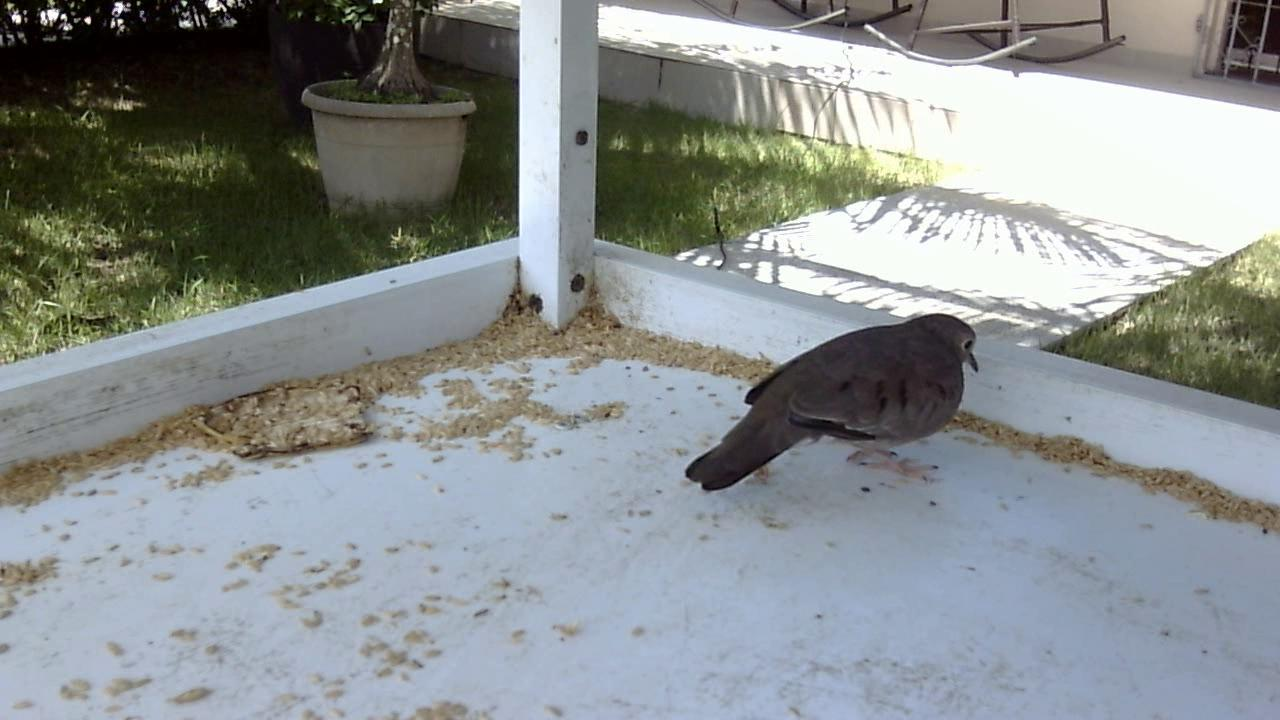rolinha: (680, 302, 988, 496)
